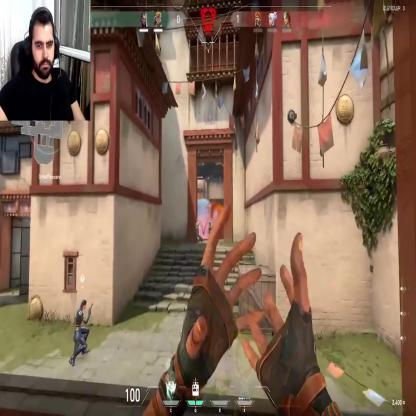enemy: (195, 219, 202, 242), (206, 218, 213, 239)
enemy_head: (197, 218, 199, 222), (210, 218, 211, 221)
